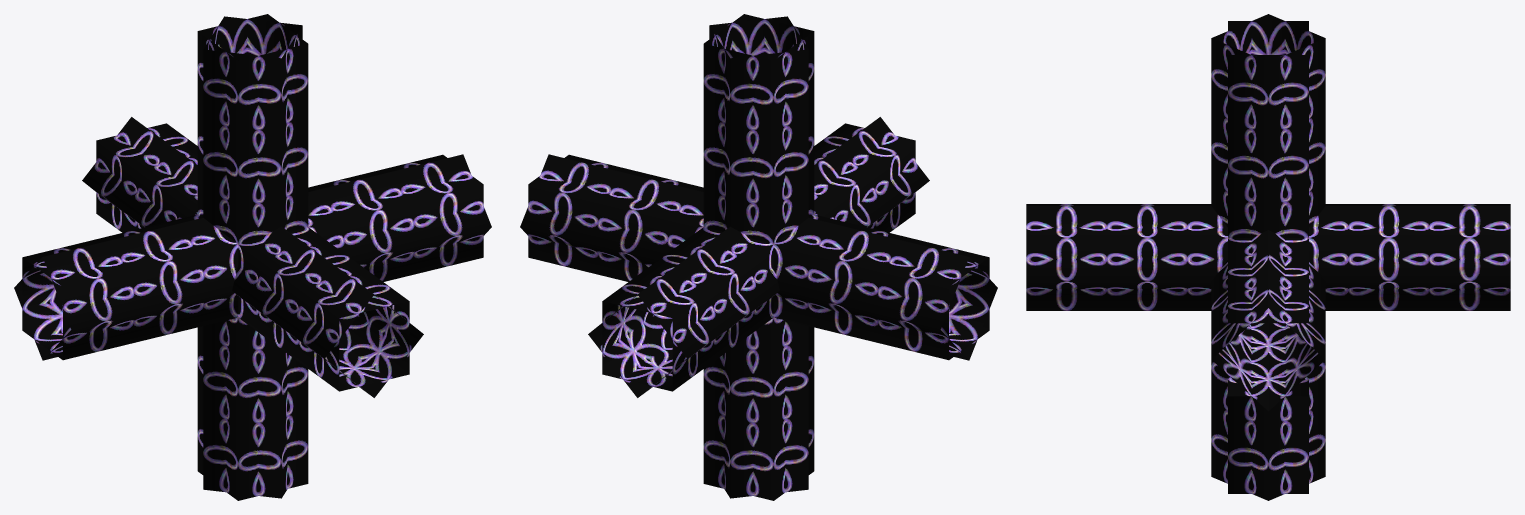
File: StarTetrahemihexacron18.gltf
3 views of the same model, side by side, from view 1: azimuth 30°, elevation 25°; view 2: azimuth 150°, elevation 25°; view 3: azimuth 270°, elevation 25° (orthographic).
Parts seen in each view (by area): view 1: StarTetrahemihexacron; view 2: StarTetrahemihexacron; view 3: StarTetrahemihexacron.
Part boxes in pixels (x1,y1,x2,y2): StarTetrahemihexacron: (14, 14, 491, 500); StarTetrahemihexacron: (520, 14, 997, 500); StarTetrahemihexacron: (1026, 14, 1510, 500).
Bounding box in the file's own units: 6 × 6 × 6.
1 material, 1 textured.
